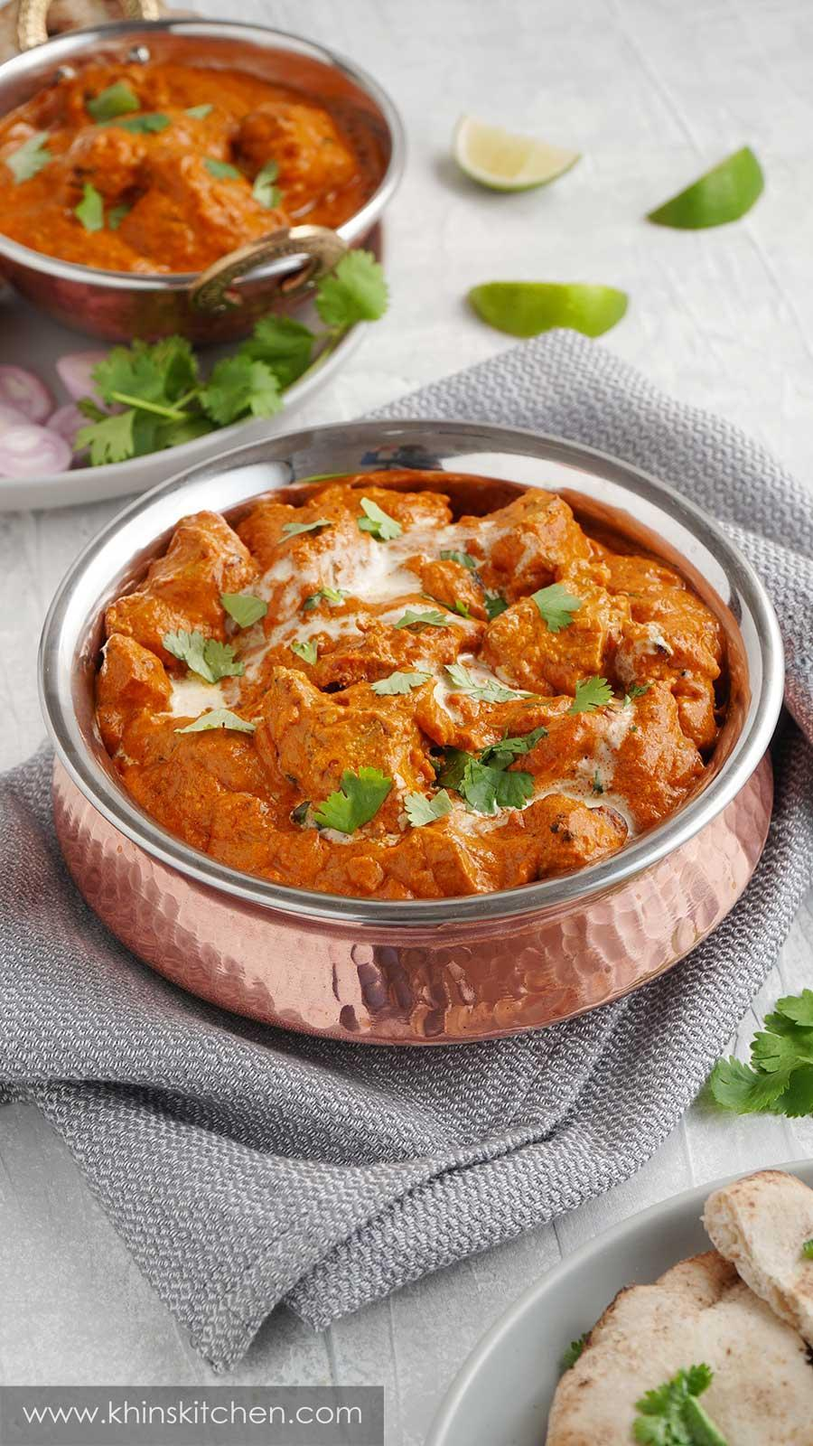chicken: (104, 463, 759, 907)
